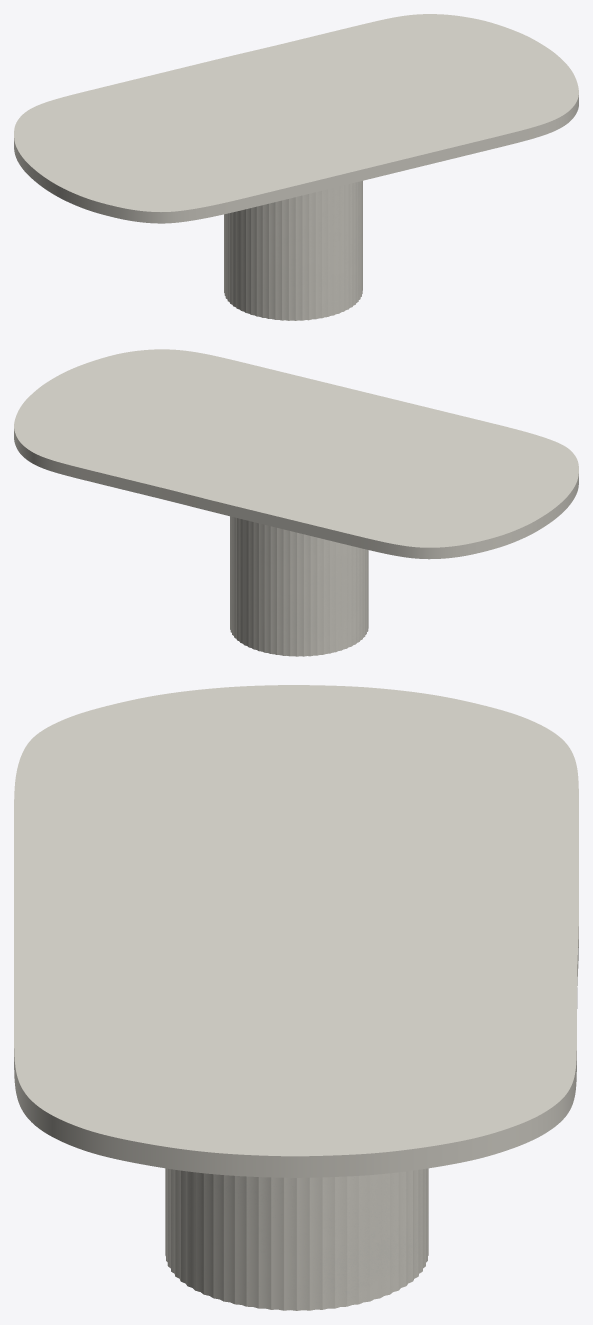
The model's file is pale_oval_standard_ripple.glb.
3 views of the same model, one above another, from view 1: azimuth 30°, elevation 25°; view 2: azimuth 150°, elevation 25°; view 3: azimuth 270°, elevation 25° (orthographic). The views are drawn at different scales.
Parts seen in each view (by area): view 1: standard_oval, ripple; view 2: standard_oval, ripple; view 3: standard_oval, ripple.
Part boxes in pixels (x1,y1,x2,y2): standard_oval: (14, 14, 578, 223); ripple: (224, 181, 362, 320); standard_oval: (14, 349, 578, 559); ripple: (230, 516, 368, 656); standard_oval: (14, 685, 578, 1177); ripple: (165, 1168, 428, 1310).
Bounding box in the file's own units: 7.5 × 2.5 × 3.8.
1 material, 1 textured.
